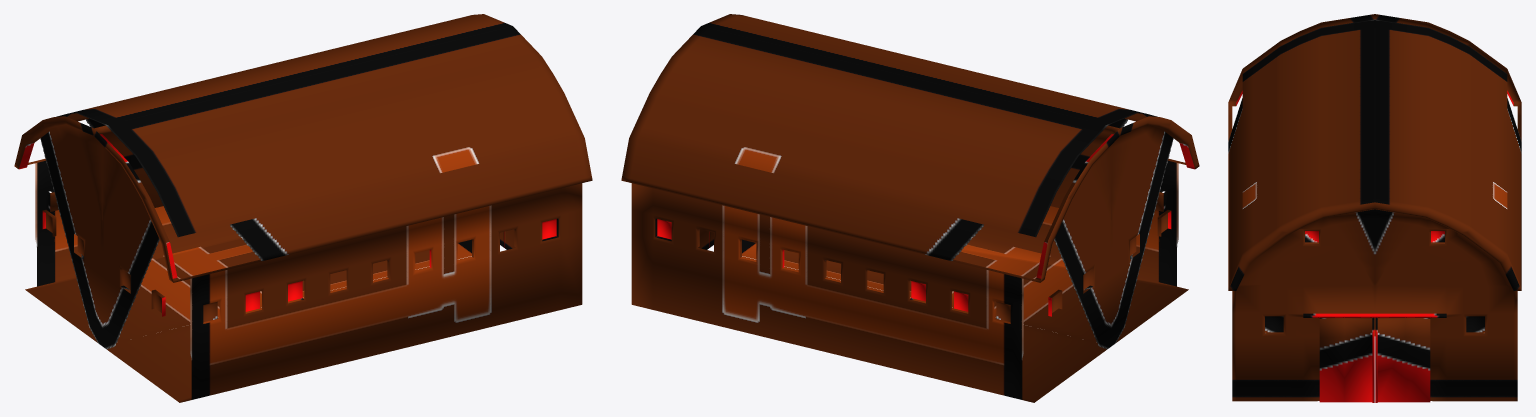
Rendered from barn1.fbx.
The picture shows the model from 3 angles, left to right: view 1: azimuth 30°, elevation 25°; view 2: azimuth 150°, elevation 25°; view 3: azimuth 270°, elevation 25°; orthographic projection. The views are drawn at different scales.
Parts seen in each view (by area): view 1: Cube; view 2: Cube; view 3: Cube.
Boxes of the visible parts, bbox=[...] form: Cube: bbox=[14, 14, 592, 402]; Cube: bbox=[621, 14, 1199, 402]; Cube: bbox=[1228, 14, 1521, 402].
Size of the model in its own units: 625 by 313 by 411.
